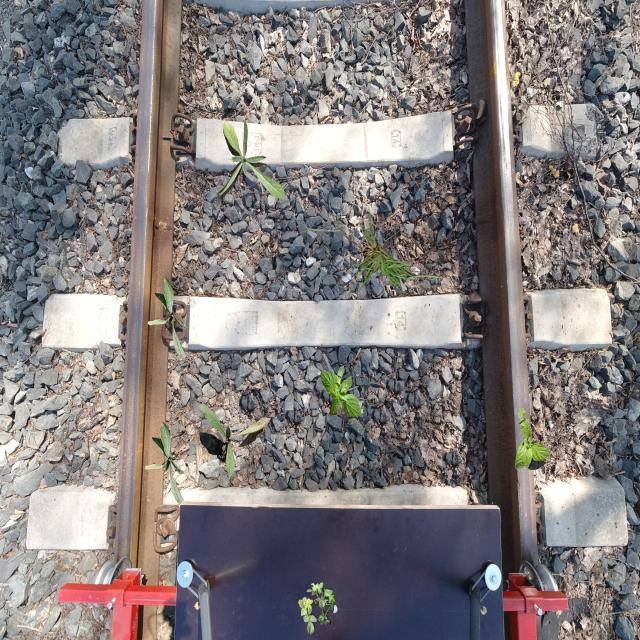Plant: (307, 205, 450, 295), (214, 120, 286, 201), (199, 403, 270, 478), (148, 277, 188, 360), (145, 422, 185, 504), (321, 366, 362, 419), (515, 408, 550, 470), (298, 580, 336, 635)
